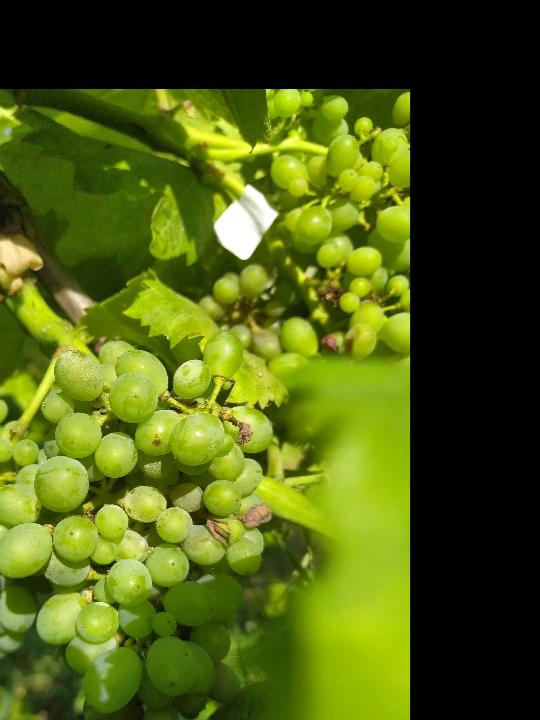grape: (0, 328, 277, 720)
